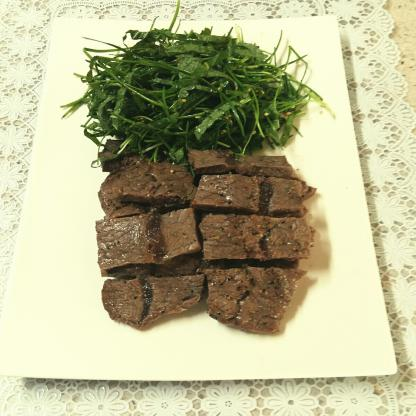Carne: (196, 268, 306, 326), (97, 207, 195, 272), (196, 214, 315, 263), (207, 168, 310, 210), (110, 278, 202, 322), (94, 164, 192, 200), (206, 152, 294, 170)
